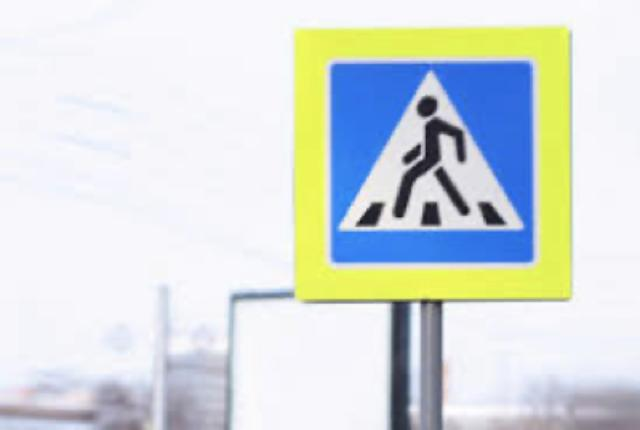crosswalk-sign: (294, 25, 572, 303)
